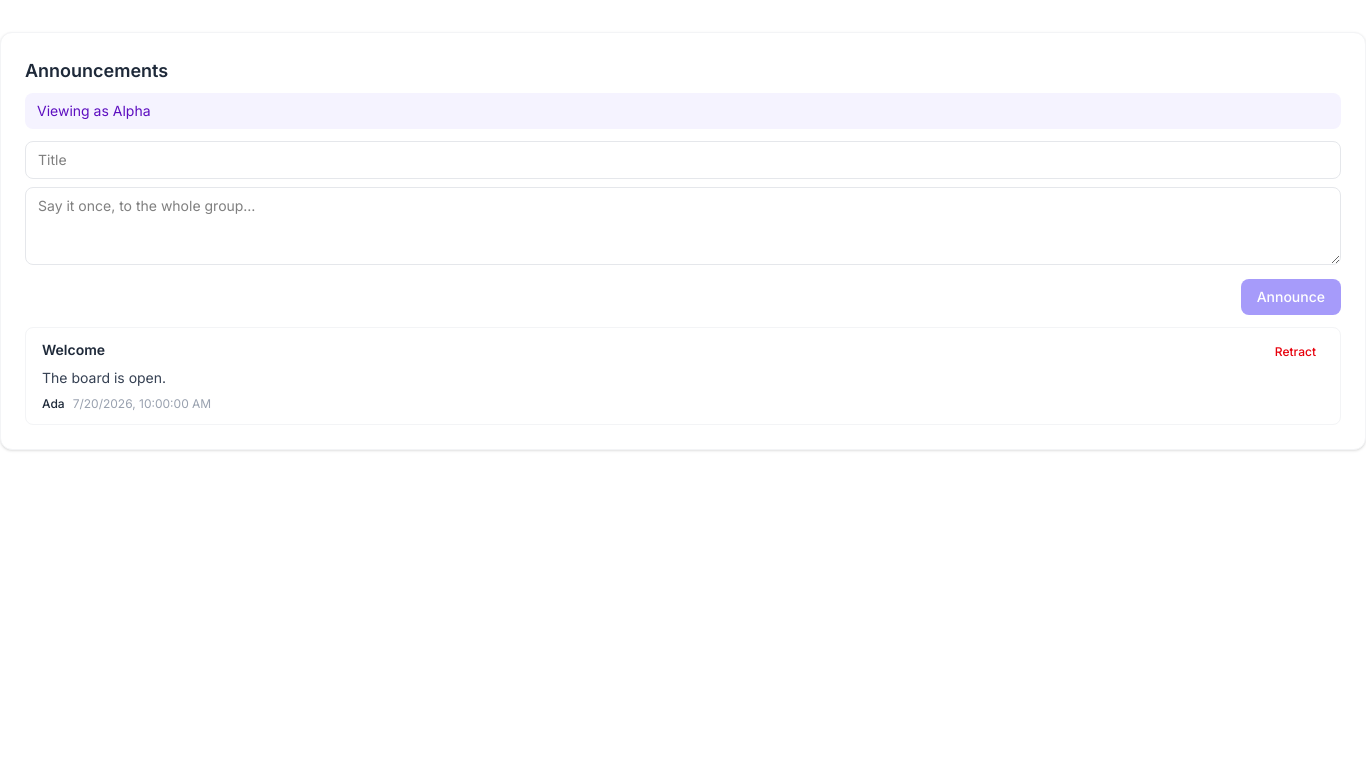
Test case: GroupAnnouncementsSection — wielded render (FEAT-H048) › S2: the contract's 42501 limb copy renders verbatim-faithful
This screenshot has width=1366, height=768.
Expected: the heading "Welcome" is shown, [42,340,105,360]
Step 1. Type "Stale hat" into the field with test id "announcement-compose-title" → (683, 160), box [25,141,1341,179]
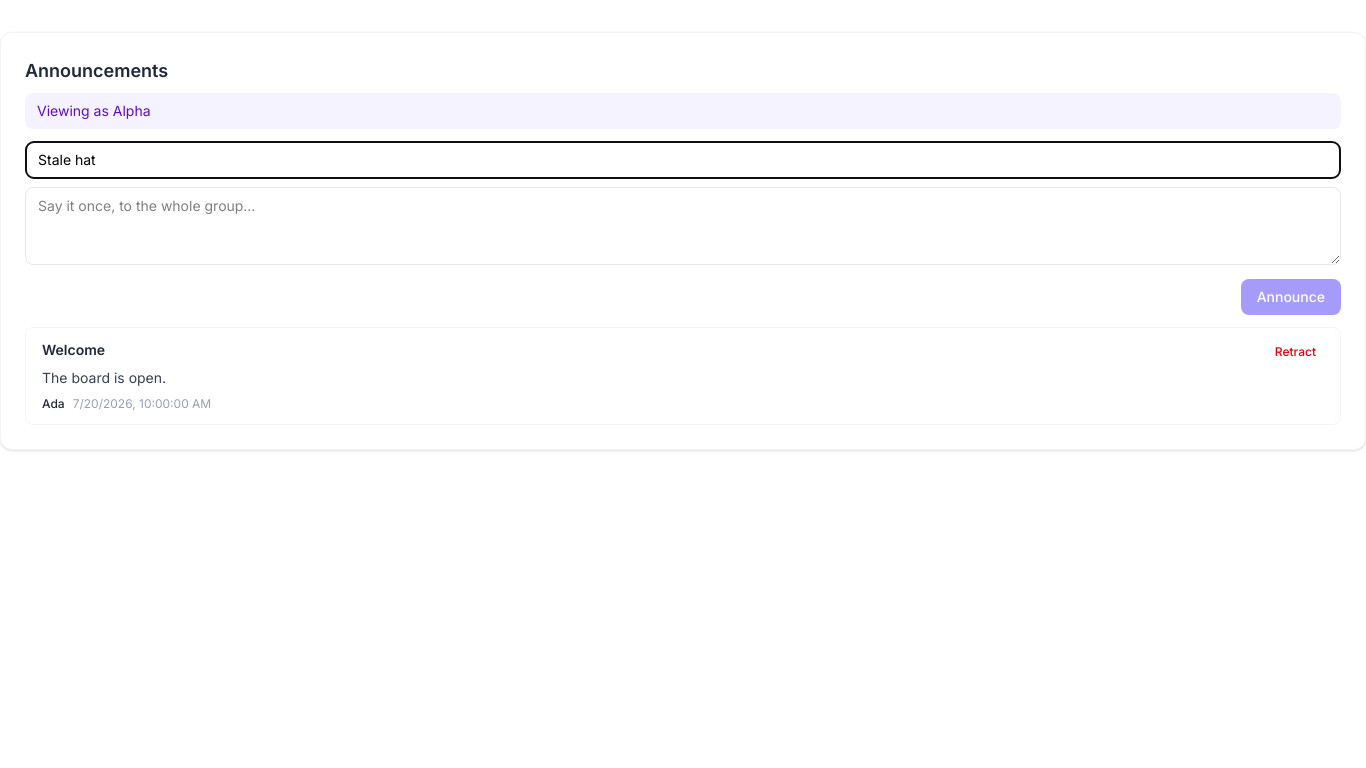
Step 2. Type "Body" into the text box with test id "announcement-compose-body" → (683, 226), box [25,187,1341,265]
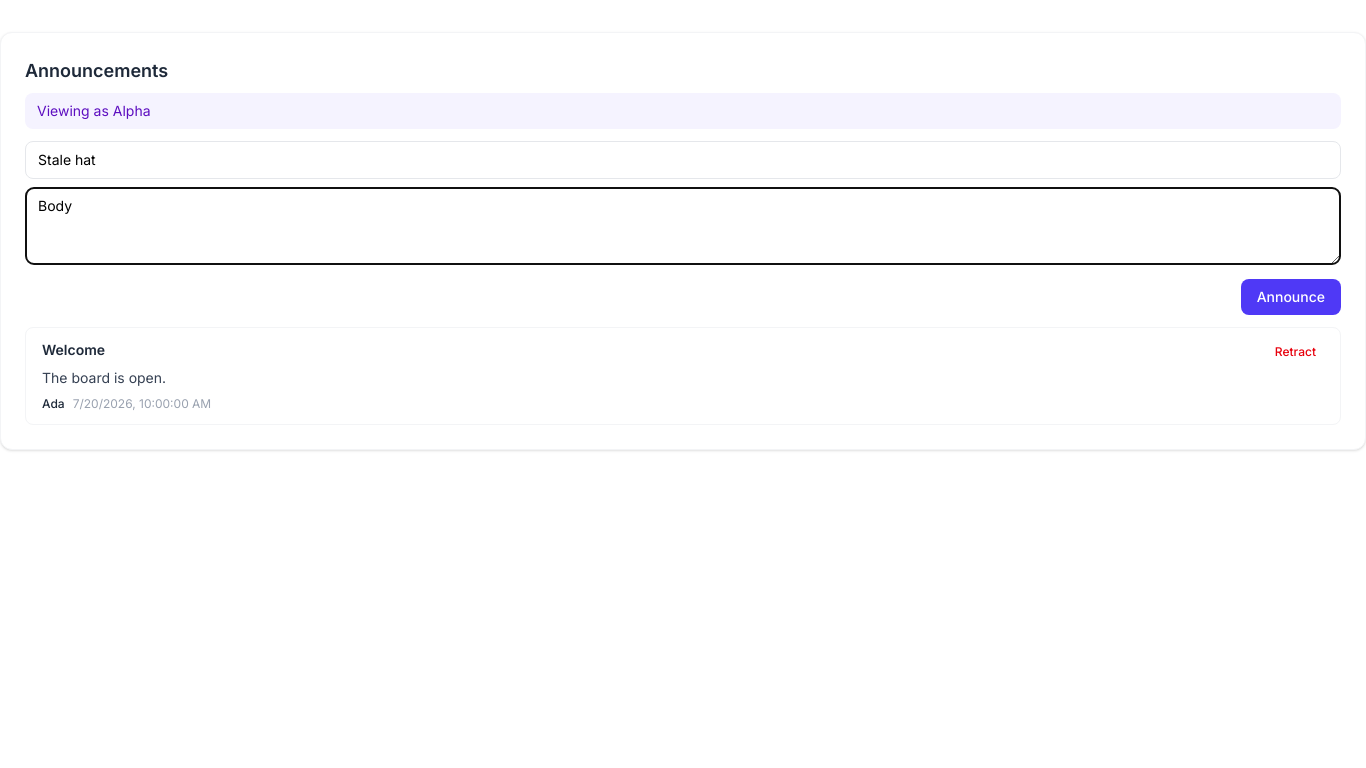
Step 3. Click the button with test id "announcement-send" → click(1291, 297), box [1241,279,1341,315]
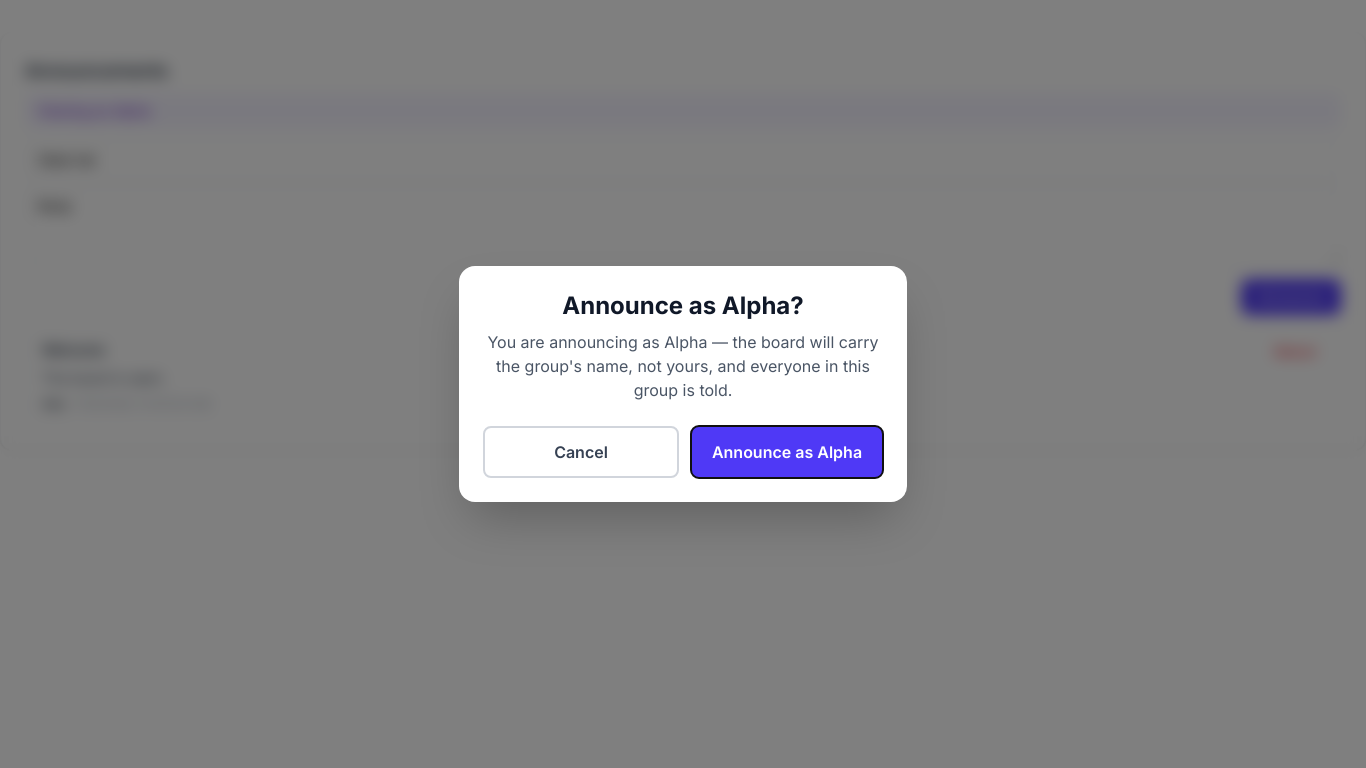
Step 4. Click the button "Announce as Alpha" → click(787, 452), box [691,426,883,478]
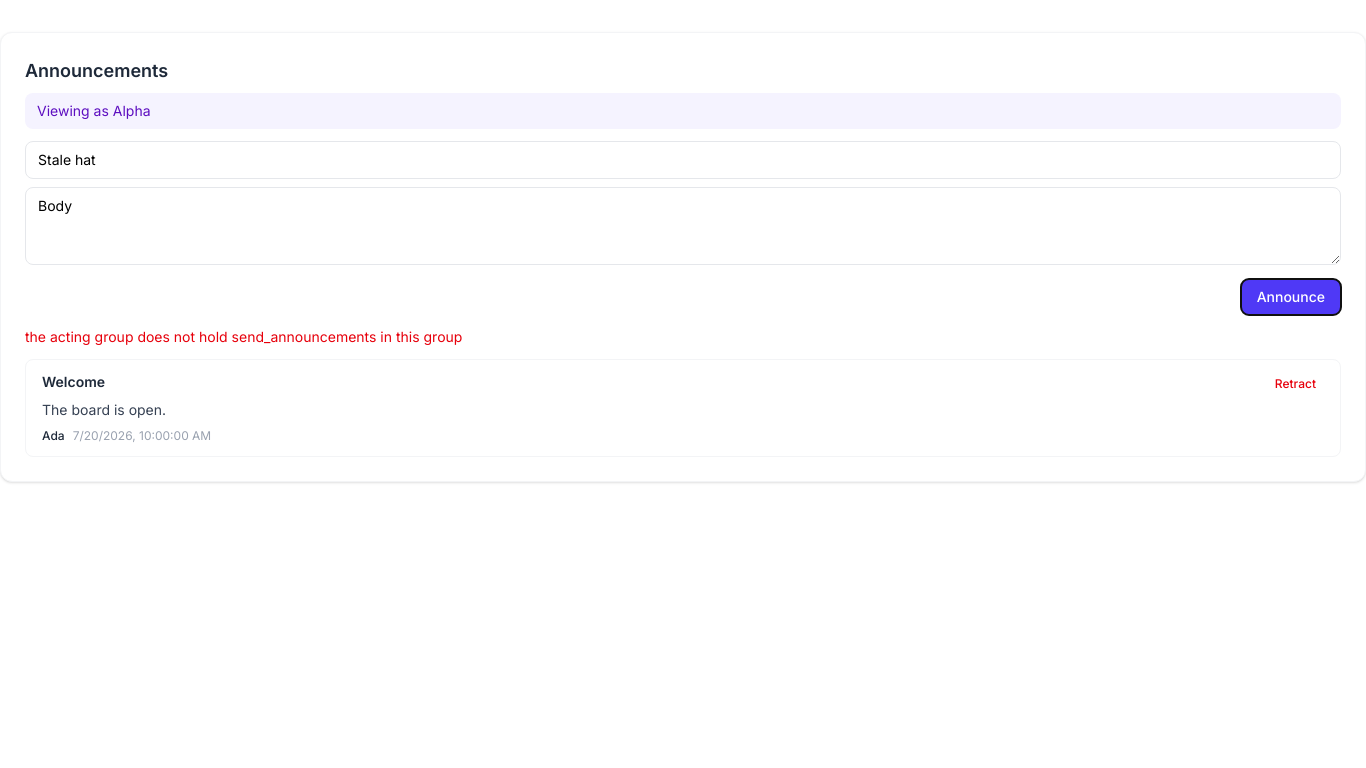
Result: the text "the acting group does not hold send_announcements in this group" is shown at [25,328,462,345]
